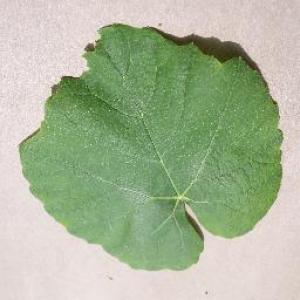Folha: (18, 21, 284, 272)
